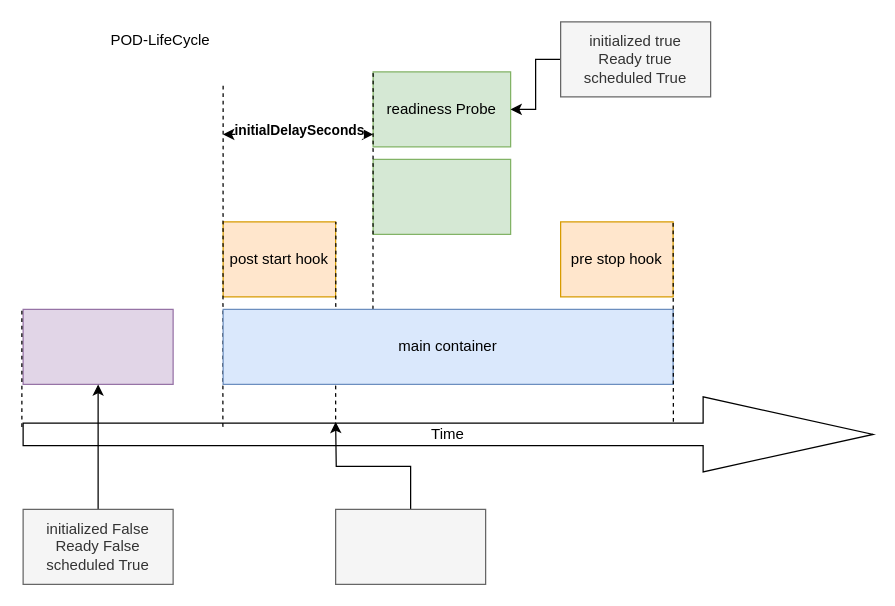
Image size: 895x606. Some labels were removed from this diagram. Each missing label, with the centre of its shape:
"initContainer" belongs at pixel 97 346.
"initialized true Ready False scheduled True" belongs at pixel 410 546.
"liveness Probe" belongs at pixel 441 196.
